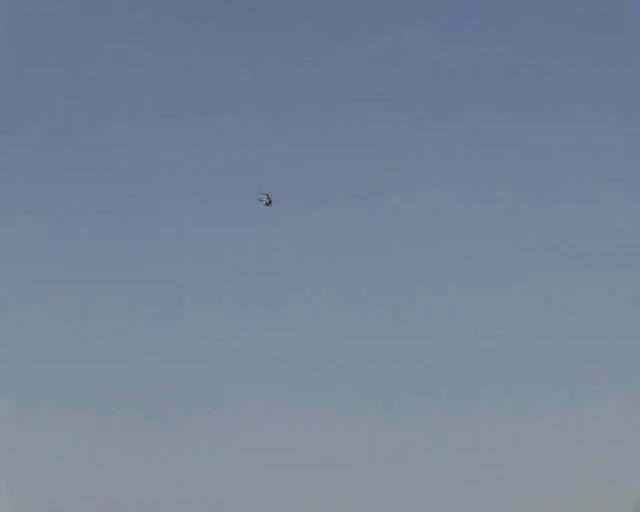HELICOPTER: (256, 191, 272, 206)
